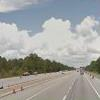Tree: (85, 55, 100, 76)
